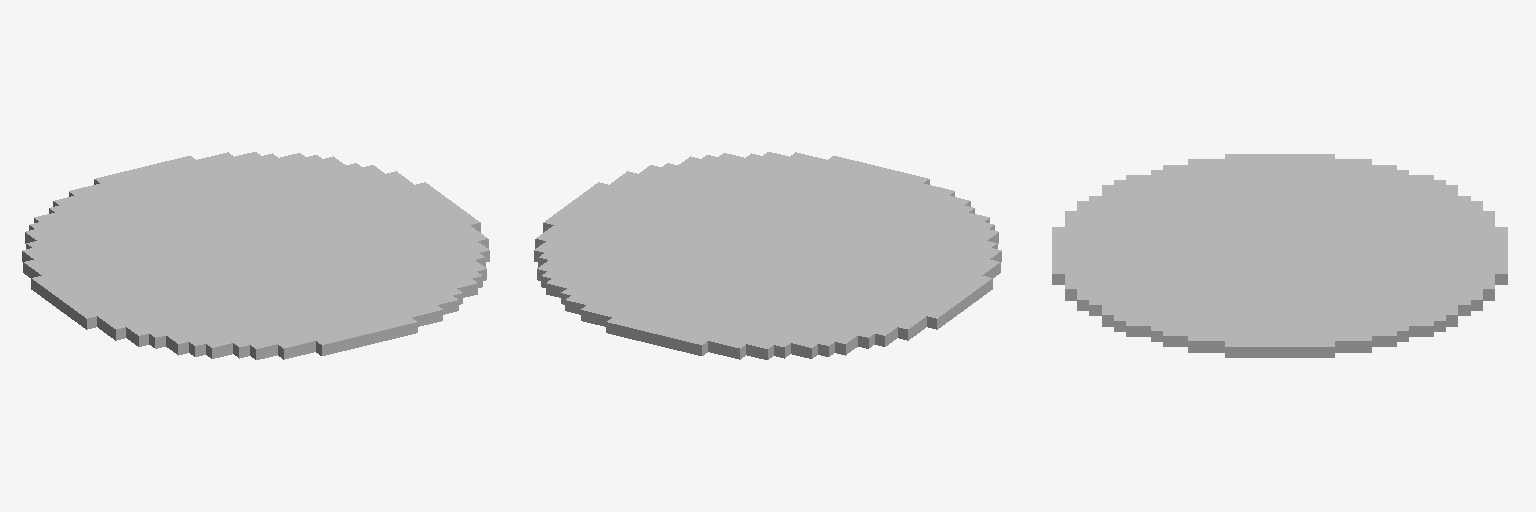
File: LobbyFloor.obj
The picture shows the model from 3 angles: view 1: azimuth 30°, elevation 25°; view 2: azimuth 150°, elevation 25°; view 3: azimuth 270°, elevation 25°; orthographic projection.
Visible parts, largest first — view 1: LobbyFloor; view 2: LobbyFloor; view 3: LobbyFloor.
Boxes of the visible parts, x1,y1,x2,y2 form: LobbyFloor: [22, 152, 489, 359]; LobbyFloor: [534, 152, 1001, 359]; LobbyFloor: [1052, 154, 1507, 357].
Size of the model in its own units: 37 by 1 by 37.